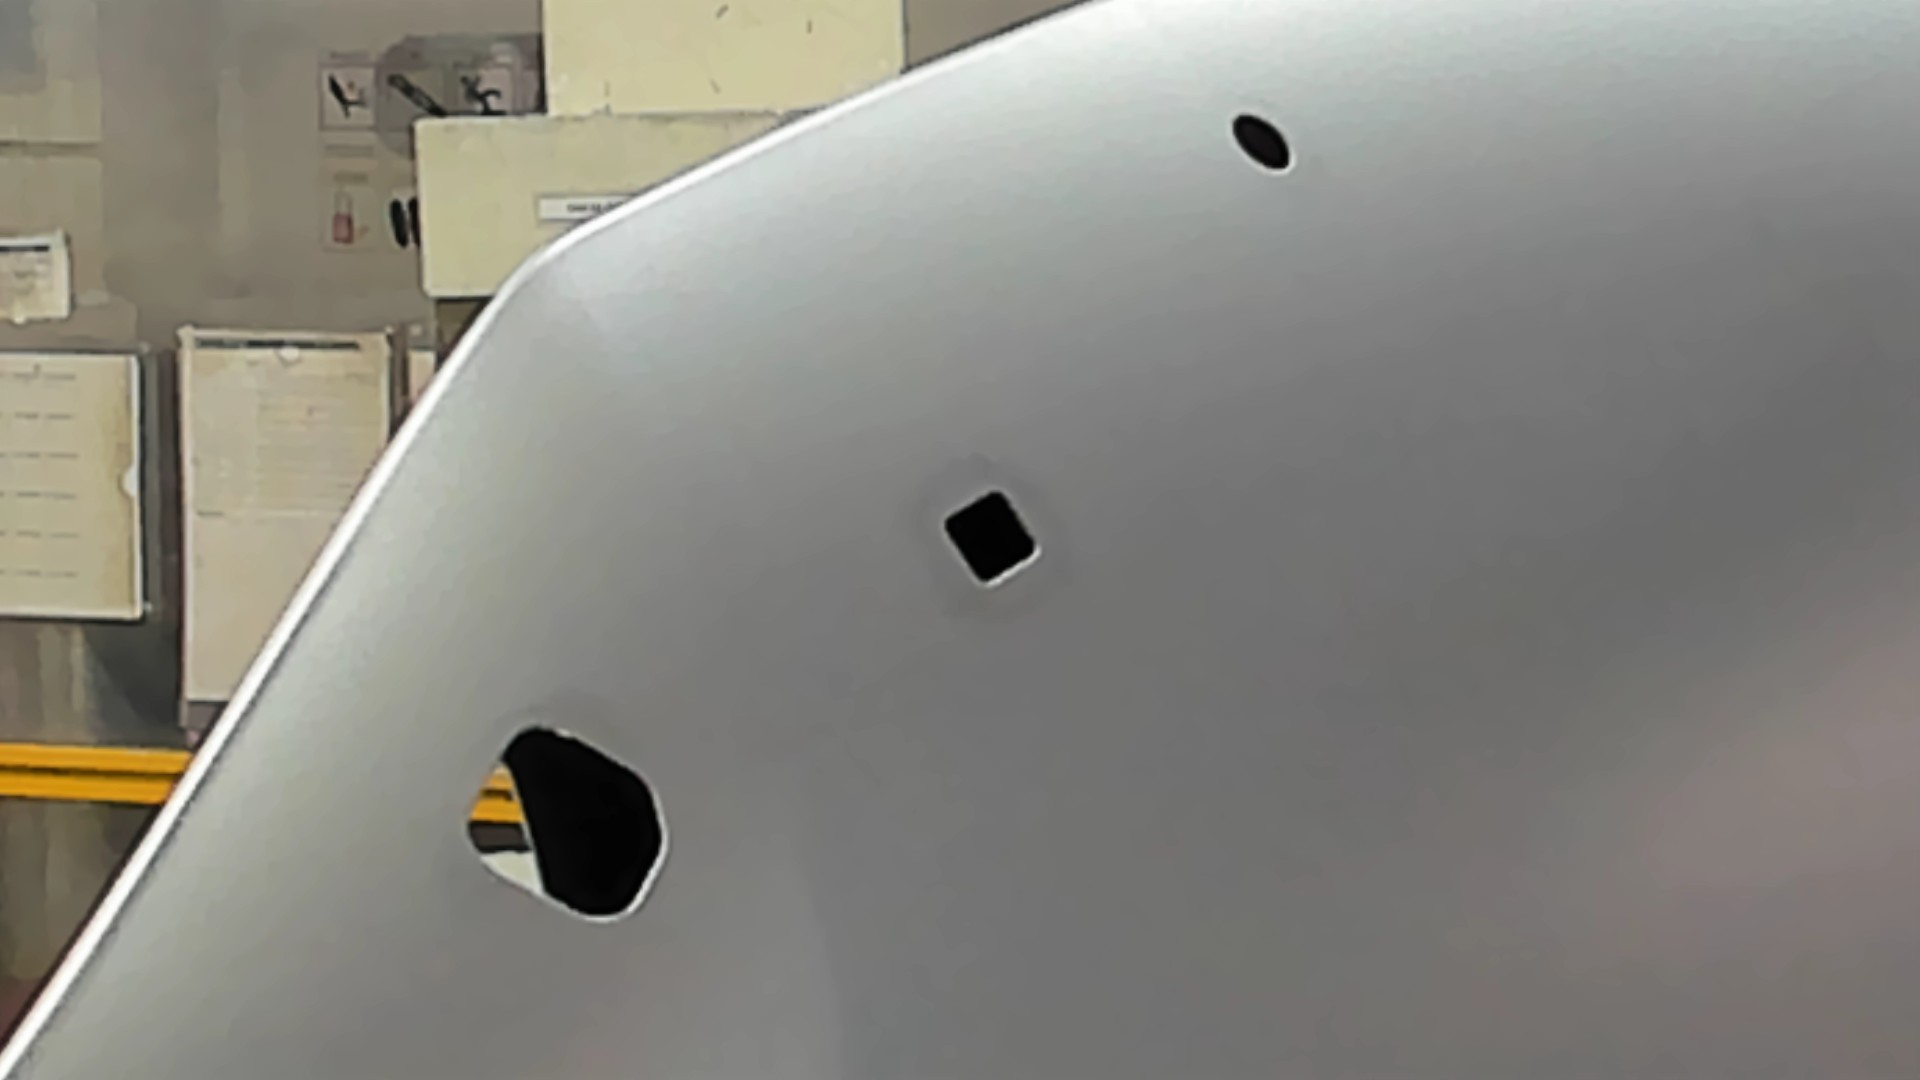capo: (1052, 183, 1920, 1080)
chico: (1225, 108, 1298, 178)
grande: (460, 713, 674, 934)
mediano: (936, 483, 1043, 595)
